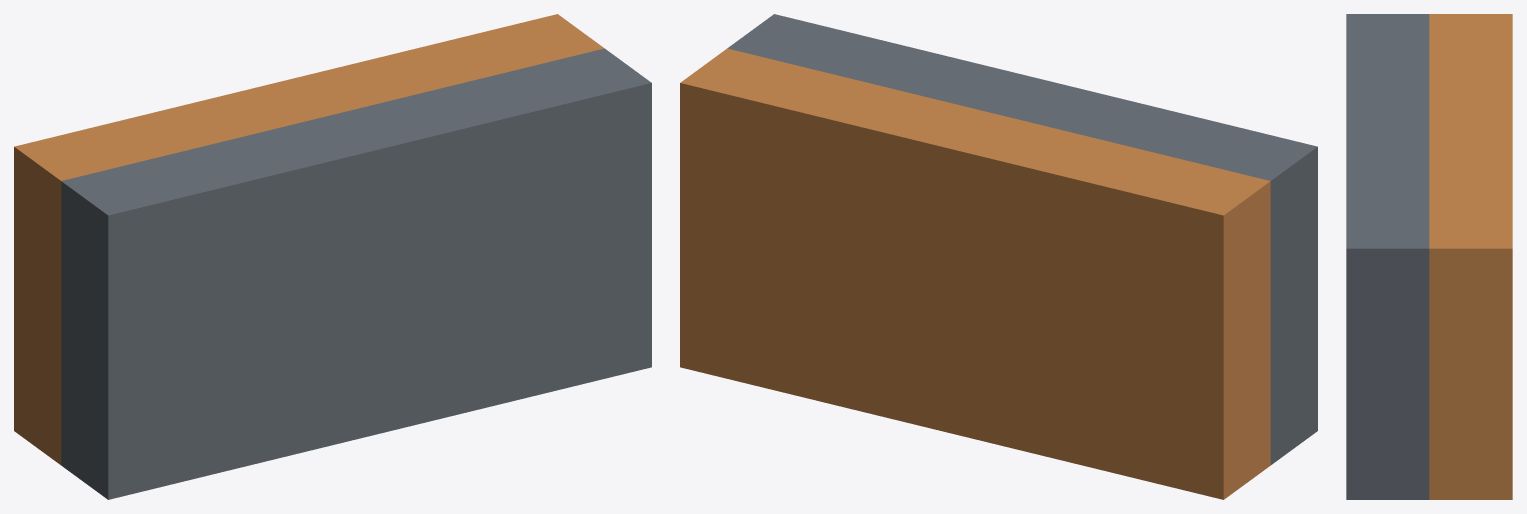
3 views of the same model, side by side, from view 1: azimuth 30°, elevation 25°; view 2: azimuth 150°, elevation 25°; view 3: azimuth 270°, elevation 25° (orthographic). The views are drawn at different scales.
Parts seen in each view (by area): view 1: haut, bas; view 2: bas, haut; view 3: bas, haut.
Part boxes in pixels (x1,y1,x2,y2): haut: (61, 48, 651, 499); bas: (14, 14, 604, 465); bas: (680, 48, 1270, 499); haut: (727, 14, 1317, 465); bas: (1429, 14, 1512, 499); haut: (1346, 14, 1429, 499).
Size of the model in its own units: 40 by 20 by 12.
